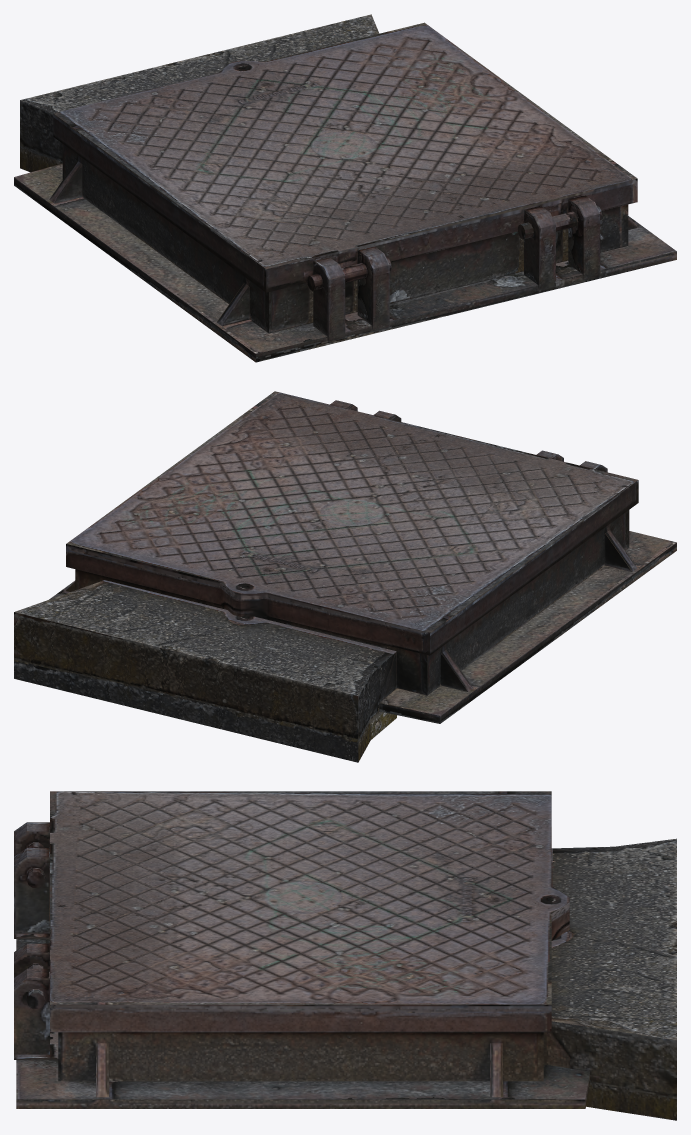
The model's file is Hatch.fbx.
3 renders of one model, top to bottom at view 1: azimuth 30°, elevation 25°; view 2: azimuth 150°, elevation 25°; view 3: azimuth 270°, elevation 25°, orthographic. The views are drawn at different scales.
Parts seen in each view (by area): view 1: HatchDoor, Hatch; view 2: HatchDoor, Hatch; view 3: HatchDoor, Hatch.
Part boxes in pixels (<box>): HatchDoor: <box>53,22,637,292</box>; Hatch: <box>14,14,676,362</box>; HatchDoor: <box>66,391,638,655</box>; Hatch: <box>14,400,676,762</box>; HatchDoor: <box>26,791,569,1032</box>; Hatch: <box>14,822,676,1120</box>.
Bounding box in the file's own units: 153 × 34.29 × 177.
1 material, 1 textured.
